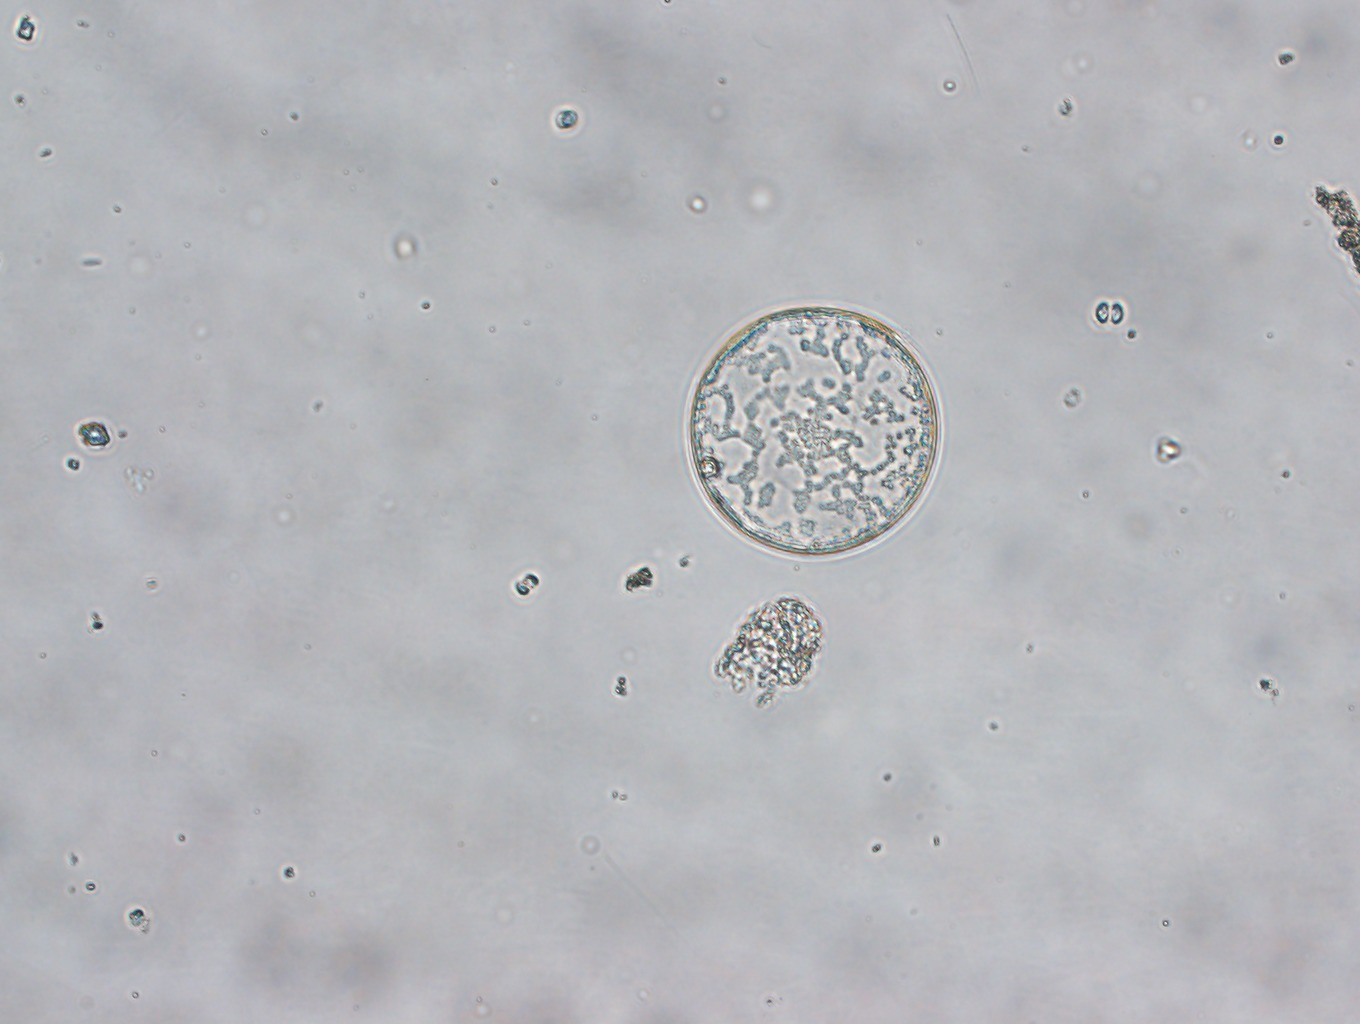coscinodiscus: (689, 305, 940, 561)
